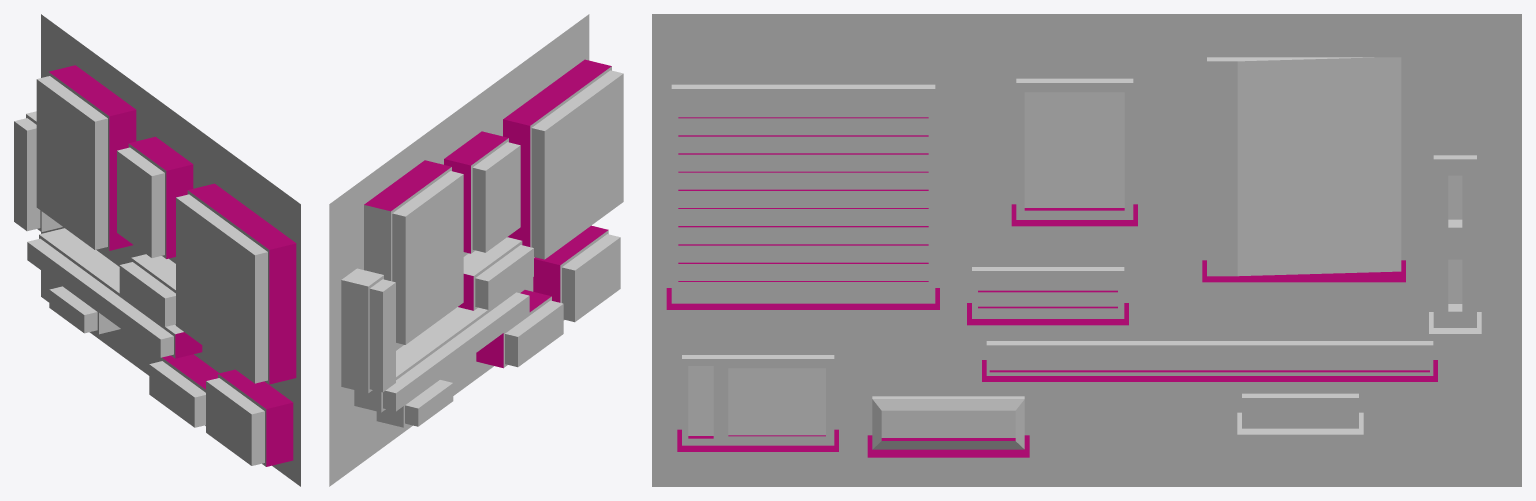
File: ScianaLevel02.fbx
The picture shows the model from 3 angles, left to right: view 1: azimuth 30°, elevation 25°; view 2: azimuth 150°, elevation 25°; view 3: azimuth 270°, elevation 25°; orthographic projection. The views are drawn at different scales.
Parts seen in each view (by area): view 1: ScianaLevel02; view 2: ScianaLevel02; view 3: ScianaLevel02.
Boxes of the visible parts, x1,y1,x2,y2 form: ScianaLevel02: (14, 14, 300, 486); ScianaLevel02: (329, 14, 623, 486); ScianaLevel02: (652, 14, 1521, 486).
Size of the model in its own units: 0.4469 by 5 by 3.
